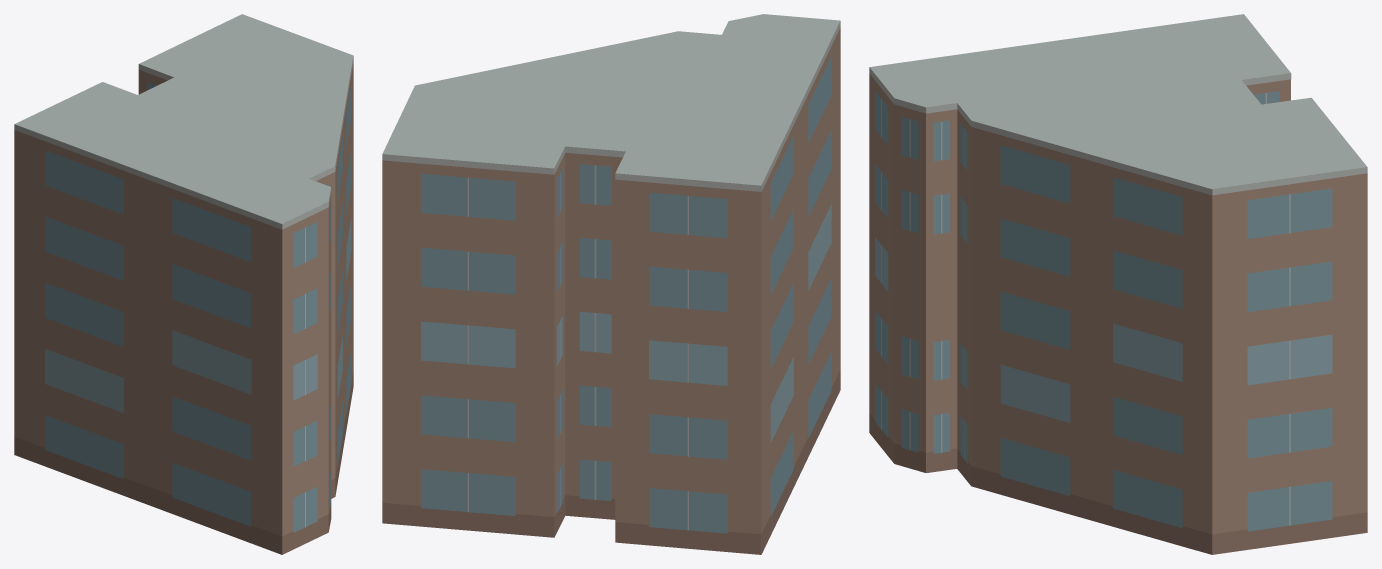
File: survey-upis-32704210.glb
The picture shows the model from 3 angles, left to right: view 1: azimuth 30°, elevation 25°; view 2: azimuth 150°, elevation 25°; view 3: azimuth 270°, elevation 25°; orthographic projection. The views are drawn at different scales.
Parts seen in each view (by area): view 1: survey-upis-32704210.tmp; view 2: survey-upis-32704210.tmp; view 3: survey-upis-32704210.tmp.
Part boxes in pixels (box(x1,y1,x2,y2)): survey-upis-32704210.tmp: box(14, 14, 353, 554); survey-upis-32704210.tmp: box(382, 14, 840, 554); survey-upis-32704210.tmp: box(869, 14, 1367, 554).
Size of the model in its own units: 14.81 by 14.4 by 17.79.
